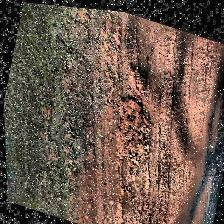pothole: (104, 88, 160, 164)
